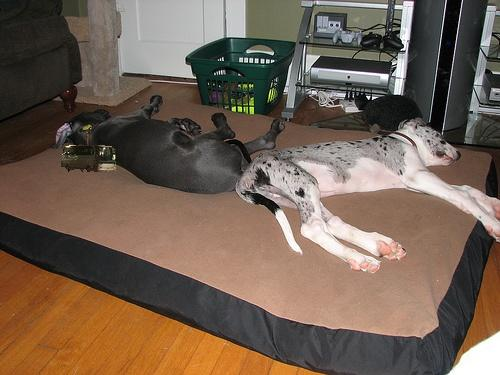tampered: (62, 145, 116, 172)
